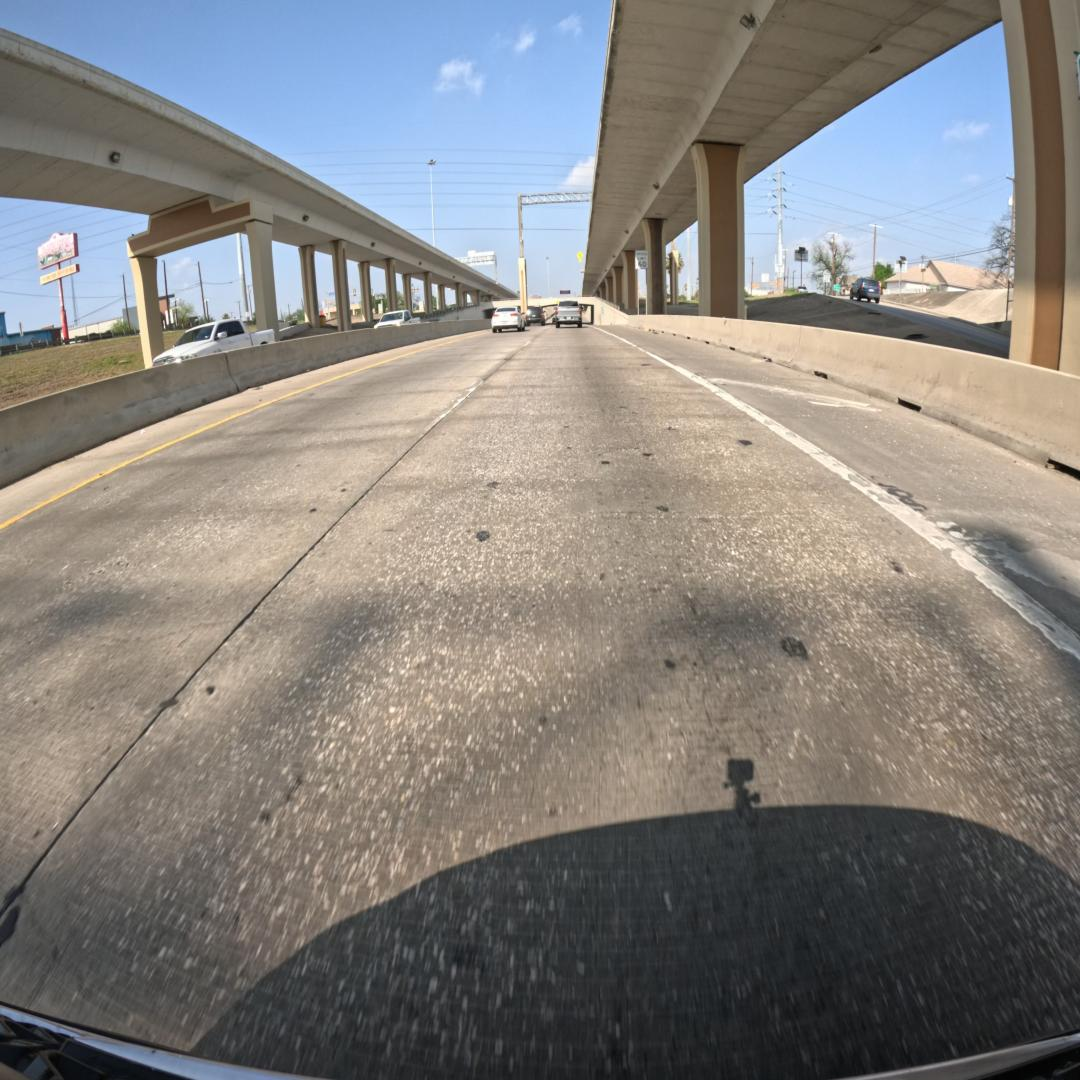lane0: (0, 329, 1080, 1080)
lane1: (0, 335, 530, 912)
